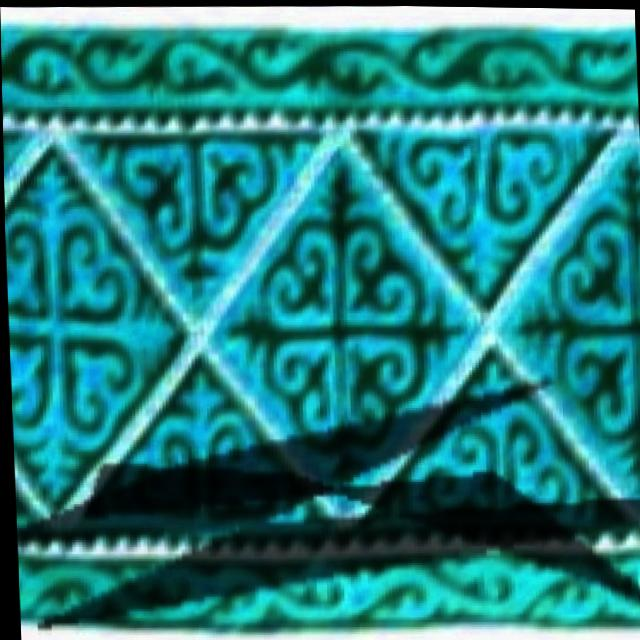Unity: (212, 150, 479, 501), (7, 139, 178, 505), (500, 137, 640, 514), (67, 130, 325, 317), (355, 129, 602, 302), (368, 360, 605, 529), (78, 364, 317, 518)
